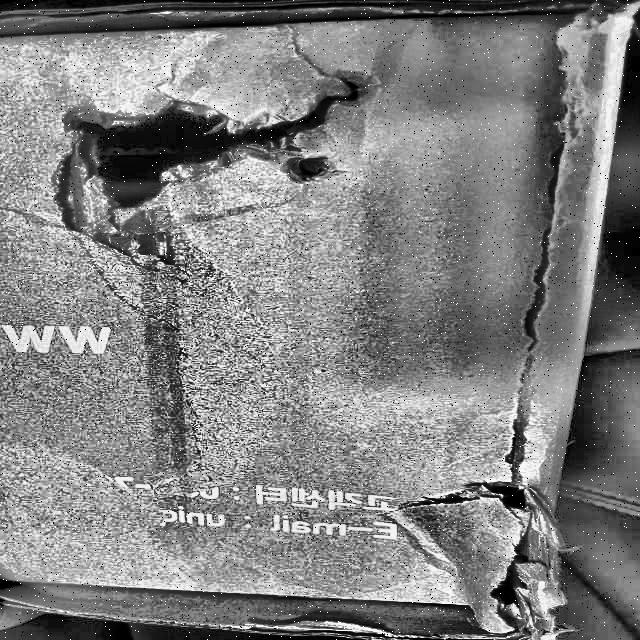box: (0, 2, 639, 638)
hole: (67, 54, 361, 251), (408, 471, 550, 611)
